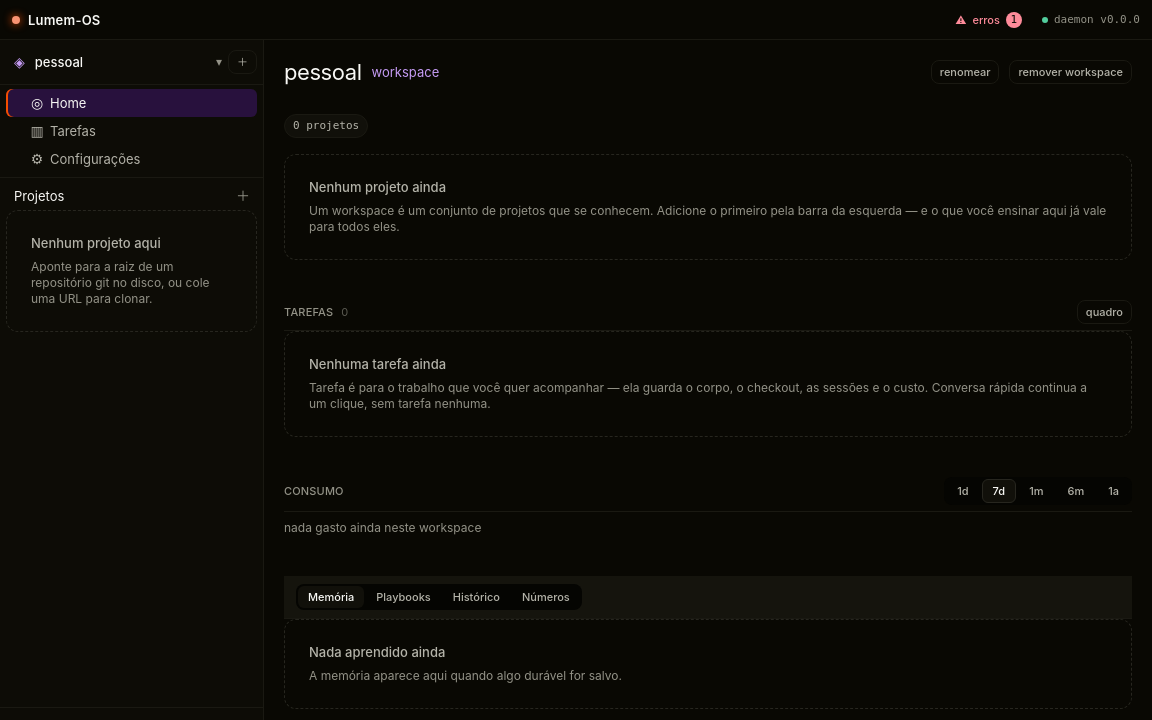
Scenario: add project › adds a repository by absolute path
Step 1. Click the button named "adicionar projeto" → (243, 196), box [231,184,255,208]
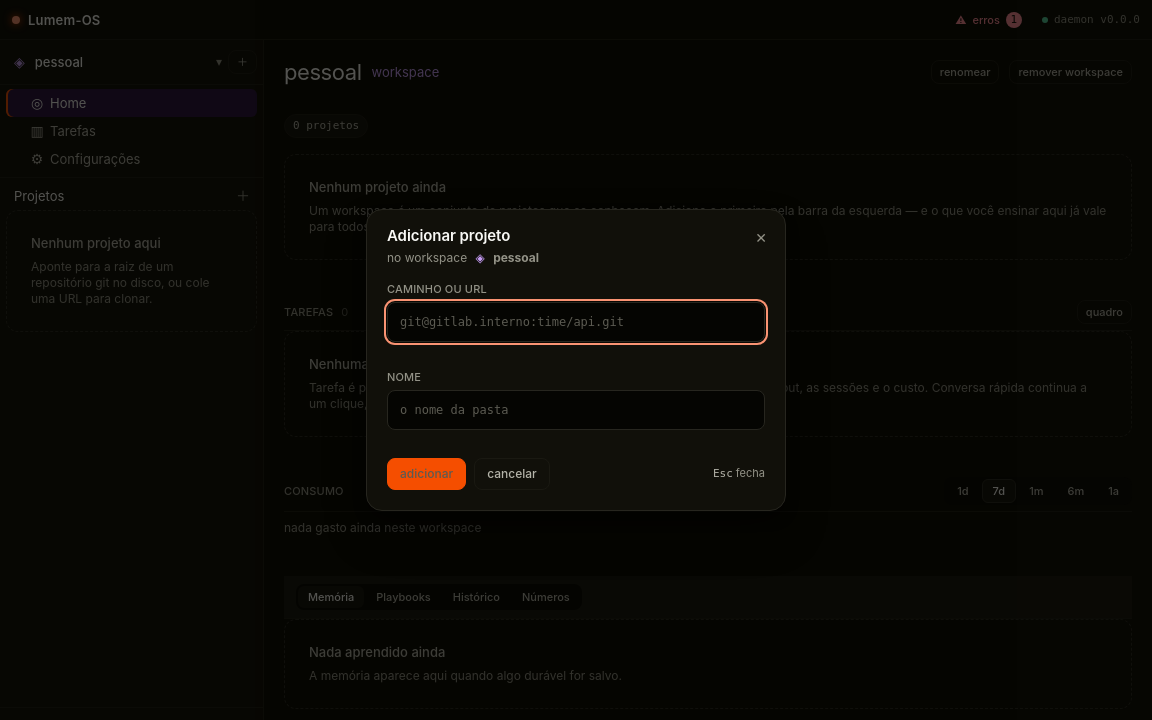
Step 2. Type "/repos/lorebase" into the field labelled "Caminho ou URL" → (576, 322), box [387,302,765,342]
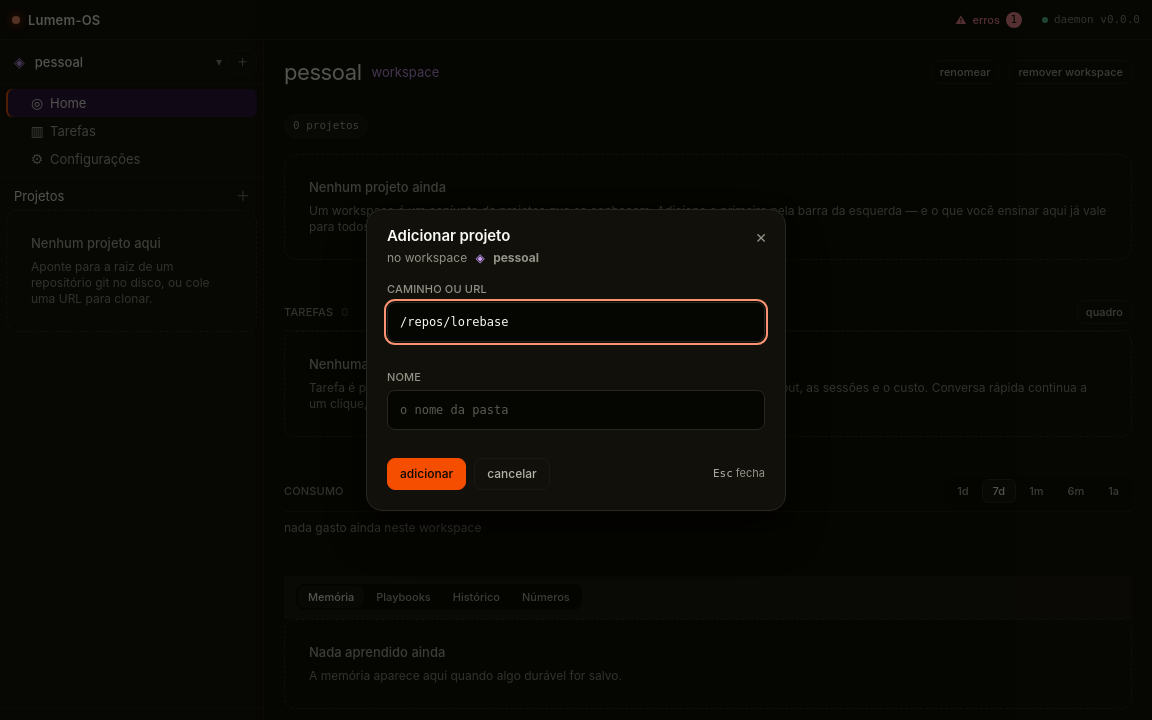
Step 3. Click the button "adicionar" → (427, 474), box [387,458,466,490]
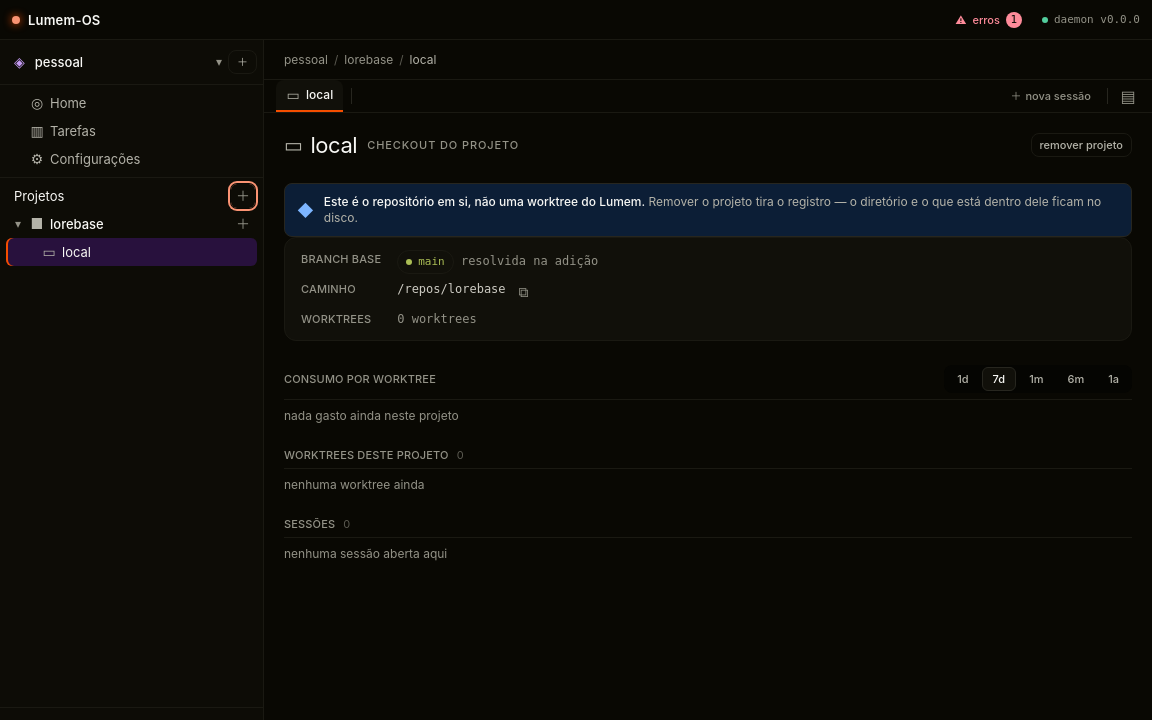
Check: the heading "▭ local" is shown, box [284,131,357,159]
